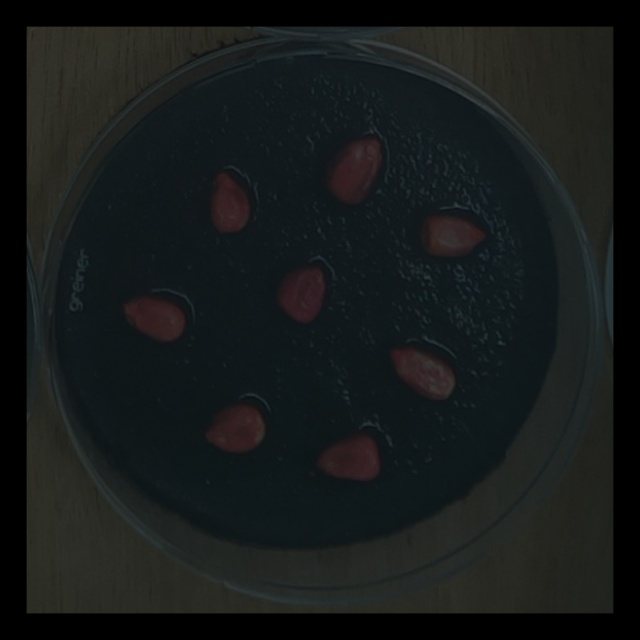Zea mays: (318, 131, 389, 212), (381, 340, 462, 408), (197, 395, 274, 462), (114, 286, 193, 349), (308, 427, 387, 489), (269, 258, 331, 331), (413, 207, 492, 264), (203, 165, 255, 242)
